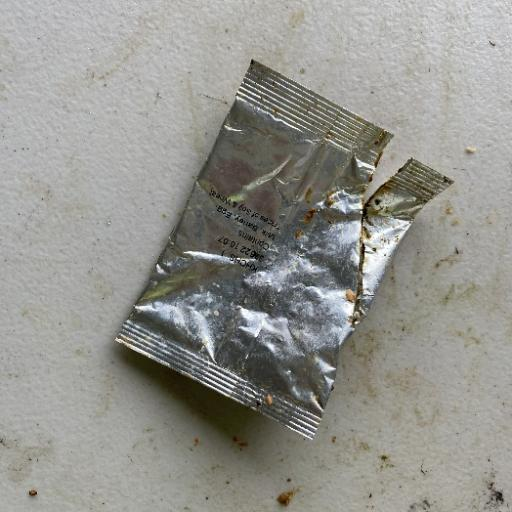Metal: (112, 58, 454, 442)
